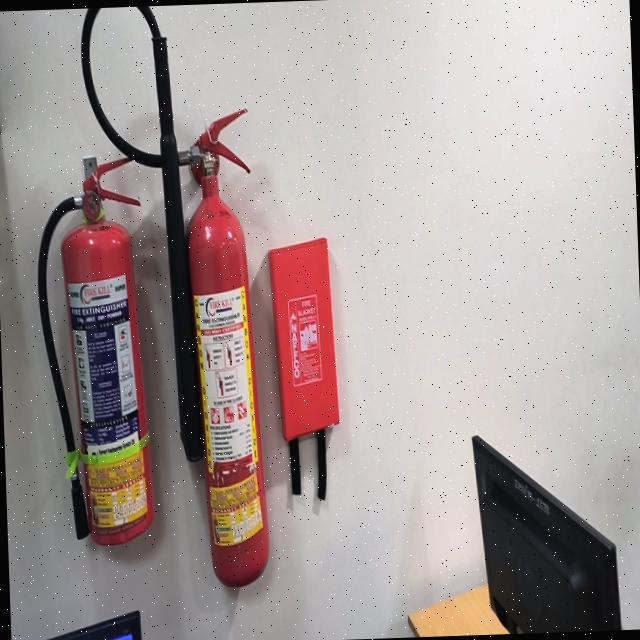Fire Extinguisher: (155, 35, 268, 585), (38, 157, 154, 544)
Monitor: (472, 436, 620, 634), (44, 610, 141, 640)
